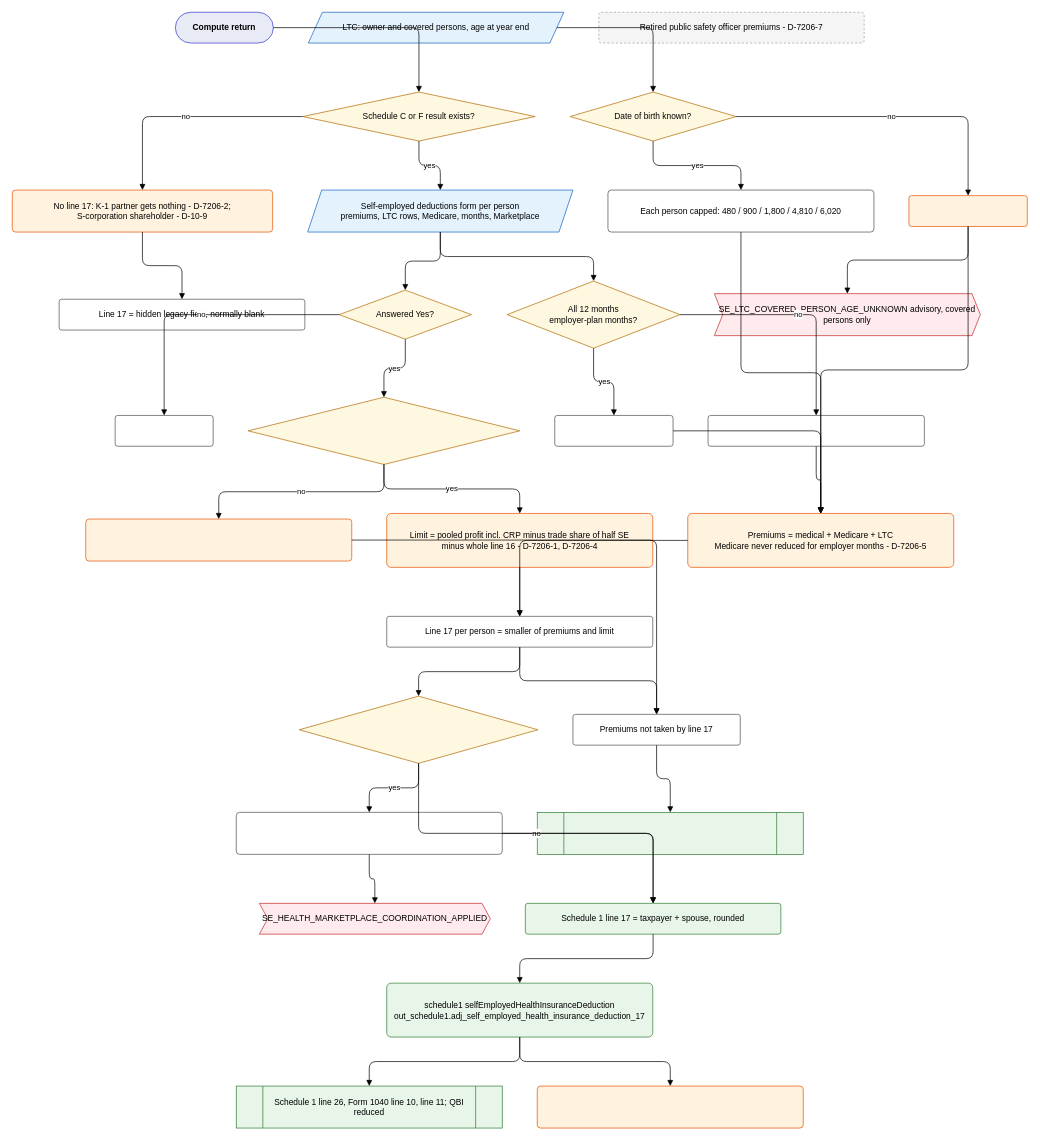
The diagram is 1040 pixels wide and 1140 high, and some of its shapes have lost their labels. Here are the shapes that lost their labels. From the top down, the centre of each, then its label:
At point 967,210: "Uncapped - D-7206-6".
At point 163,430: "Person skipped".
At point 383,430: "Pooled net profit of all Schedule C and F businesses above 0?".
At point 613,430: "Medical premium = 0".
At point 815,430: "Medical premium as typed (other months)".
At point 218,539: "No deduction; optional-method line 4b not used - D-7206-3".
At point 418,729: "Marketplace plan or Form 1095-A credit, not MFS?".
At point 369,833: "Second pass: Pub. 974 fixed point, still within the limit".
At point 670,833: "Schedule A line 1 medical, or advisory only with a Marketplace plan".
At point 670,1106: "No Form 7206, no attachment marker; preview blank - D-7206-8".
